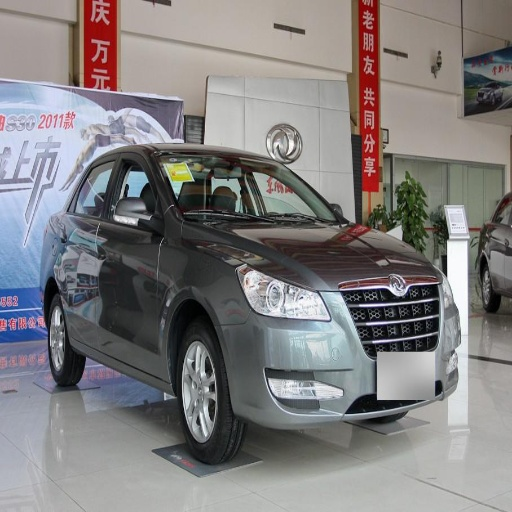back_right_door: (63, 154, 119, 337)
front_bumper: (221, 274, 460, 428)
front_right_door: (93, 150, 163, 372)
front_right_light: (237, 259, 329, 319)
trunk: (266, 69, 342, 134)
